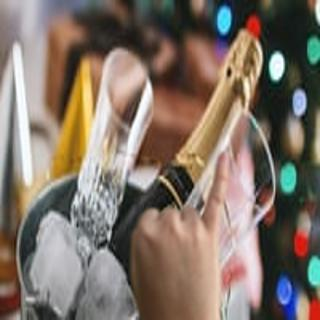FINE: (124, 151, 239, 320)
